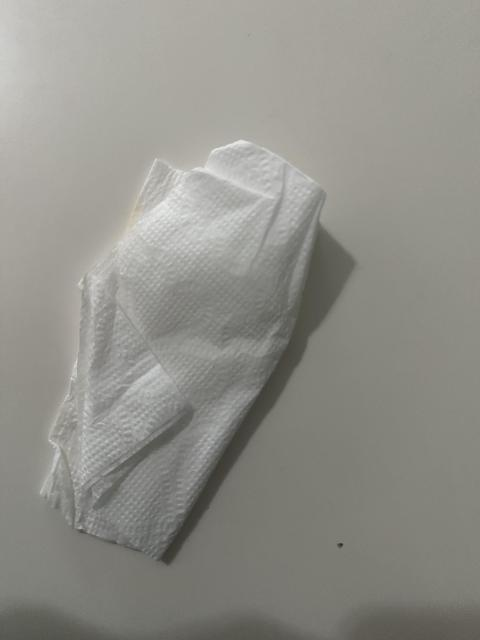Kagit: (42, 140, 326, 561)
